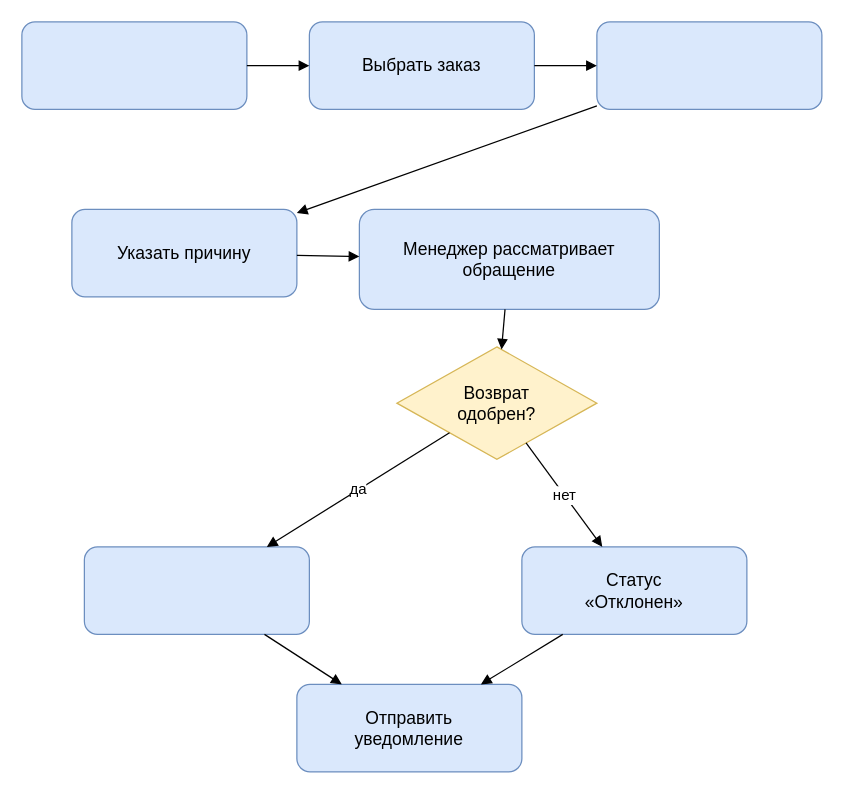
Some shapes in this 844 by 794 pixel diagram are drawn without their labels. Here are the shapes that lost their labels. From the top down, the centre of each, then its label:
At point 134,65: "Открыть историю покупок".
At point 709,65: "Создать запрос возврата".
At point 196,590: "Статус «Одобрен»".
